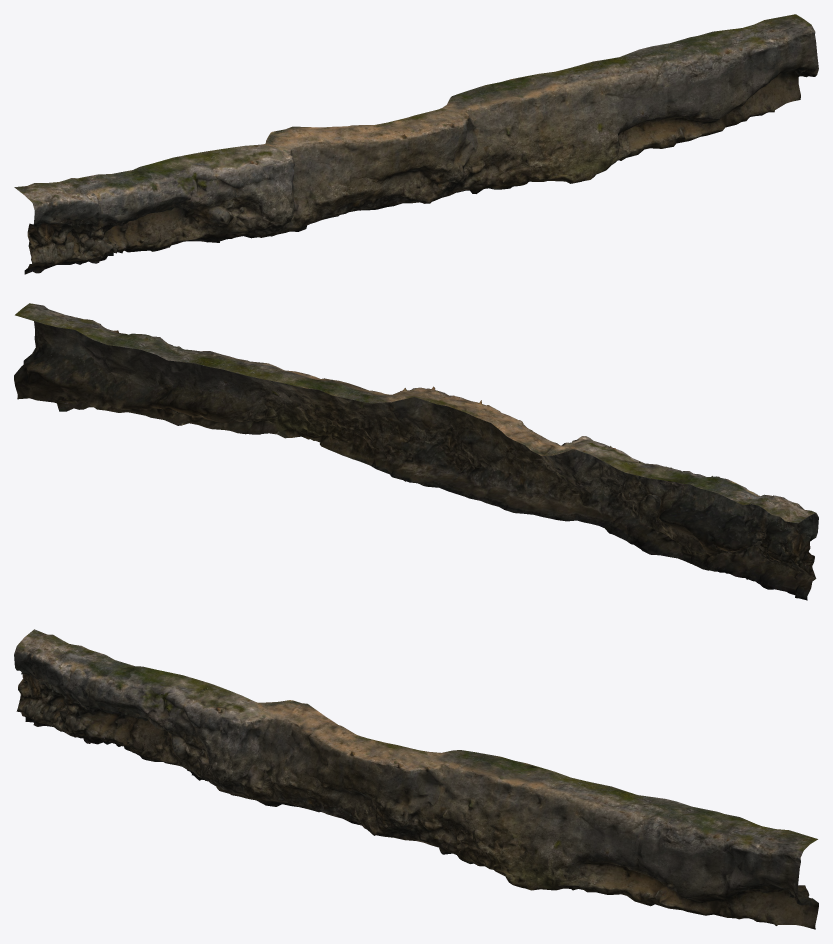
Rendered from coastal_cliff_01_lod0.glb.
3 renders of one model, top to bottom at view 1: azimuth 30°, elevation 25°; view 2: azimuth 150°, elevation 25°; view 3: azimuth 330°, elevation 25°, orthographic. The views are drawn at different scales.
Visible parts, largest first — view 1: coastal_cliff_01; view 2: coastal_cliff_01; view 3: coastal_cliff_01.
Boxes of the visible parts, box(x1,y1,x2,y2) form: coastal_cliff_01: box(14, 14, 818, 274); coastal_cliff_01: box(14, 303, 818, 600); coastal_cliff_01: box(14, 629, 818, 929).
Size of the model in its own units: 91.94 by 10.26 by 10.97.
Materials: 1 (1 with a texture image).
